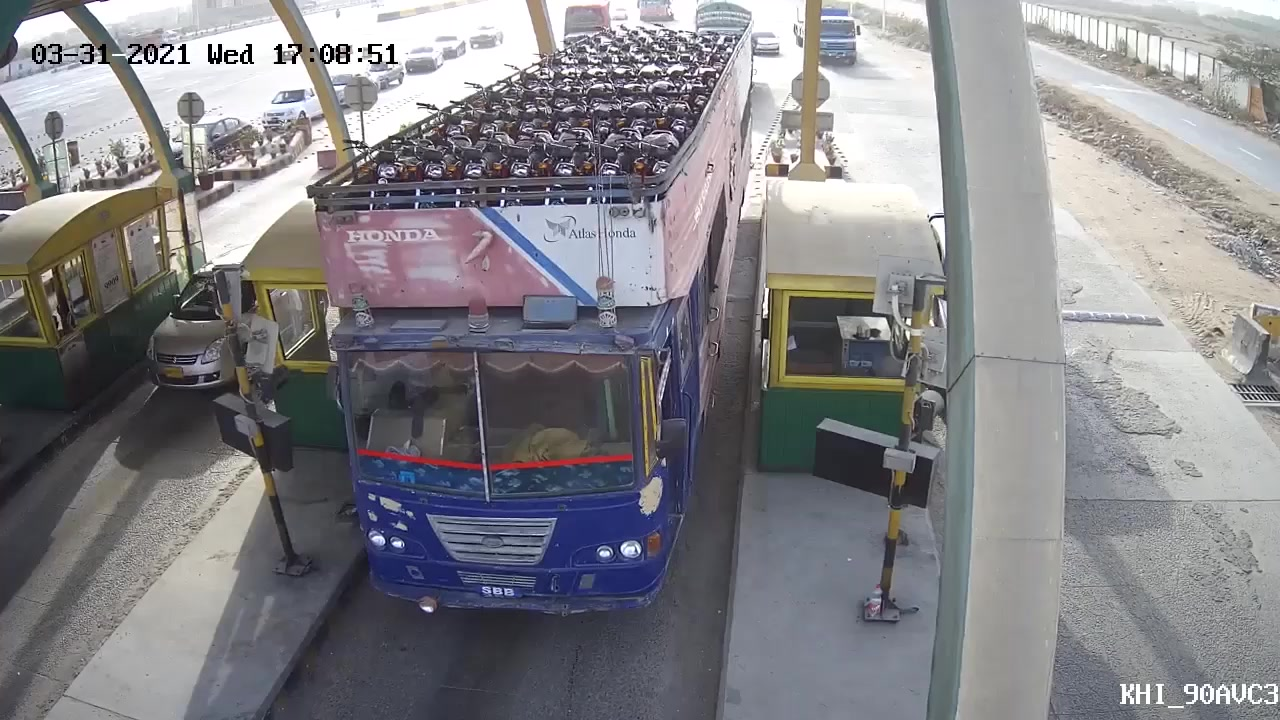F5: (290, 26, 766, 629)
